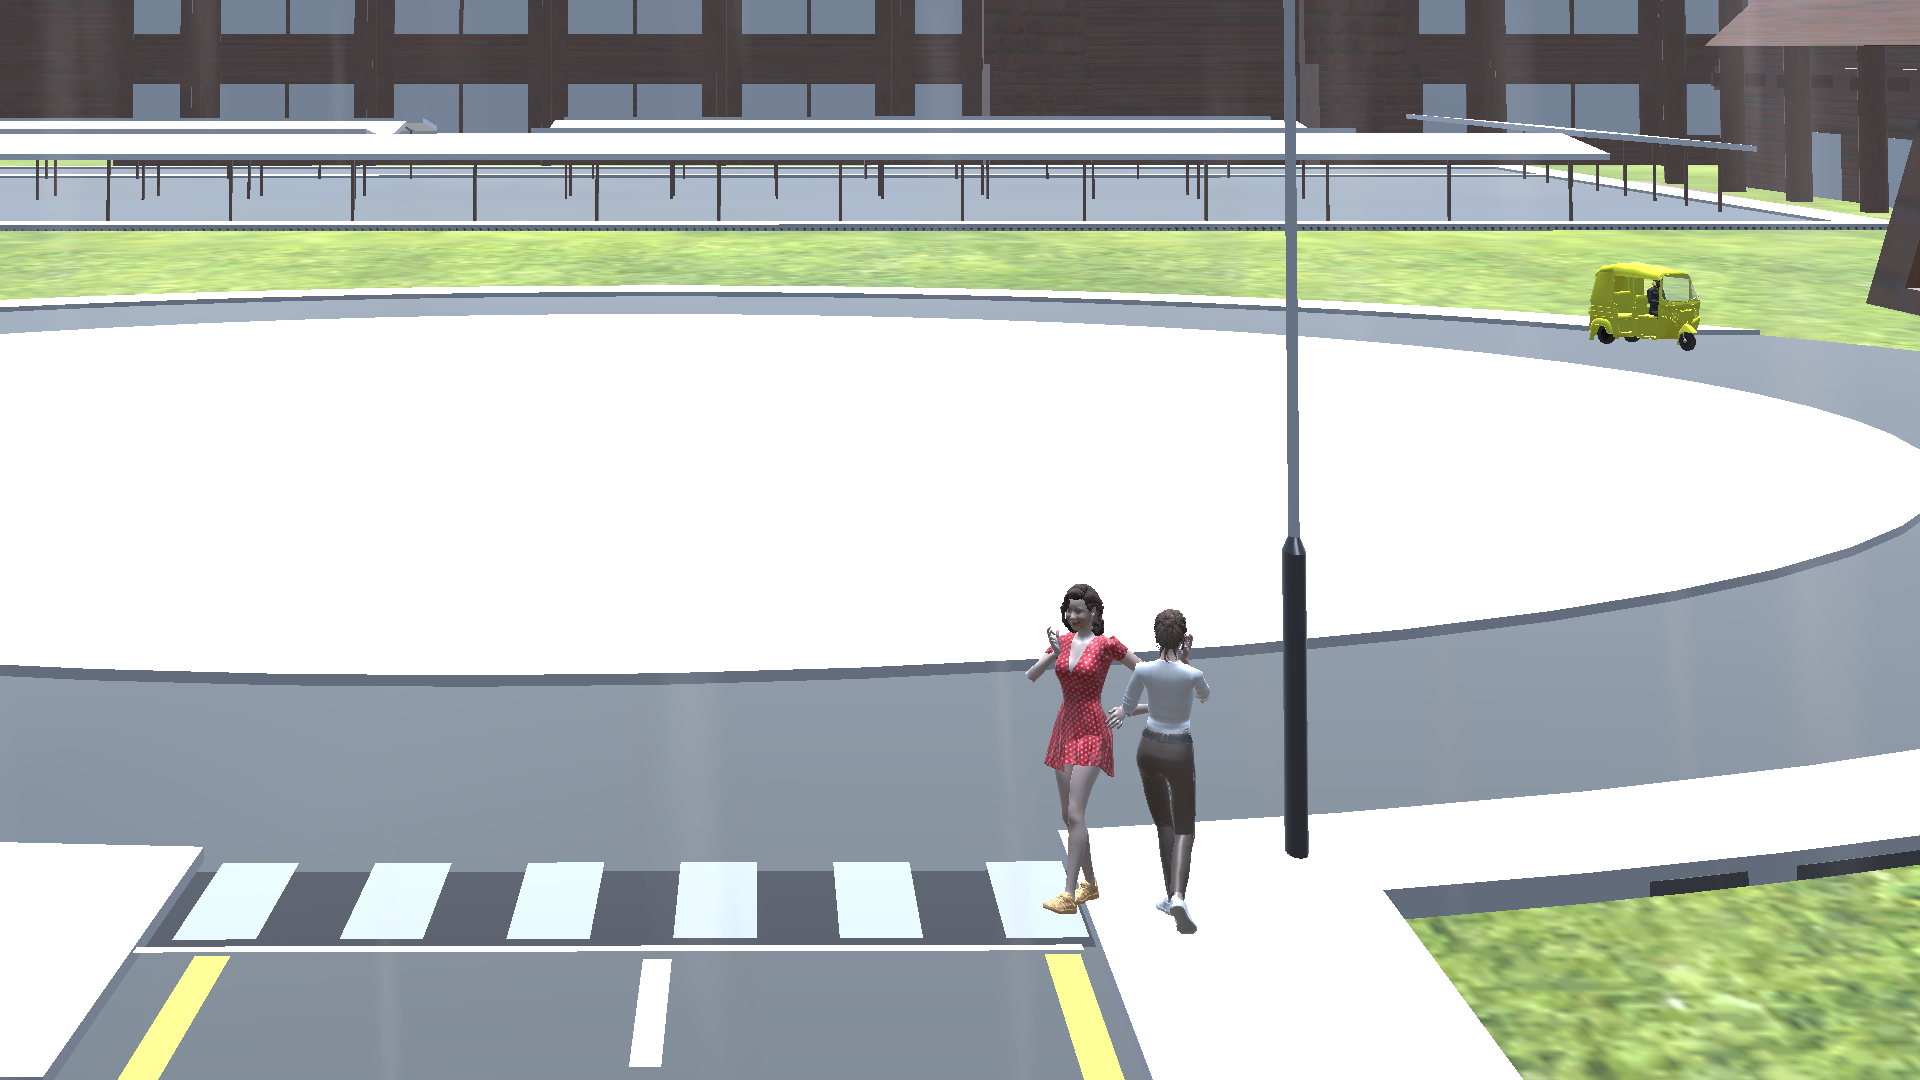pedestrian: (1012, 575, 1124, 929), (1129, 599, 1224, 939)
